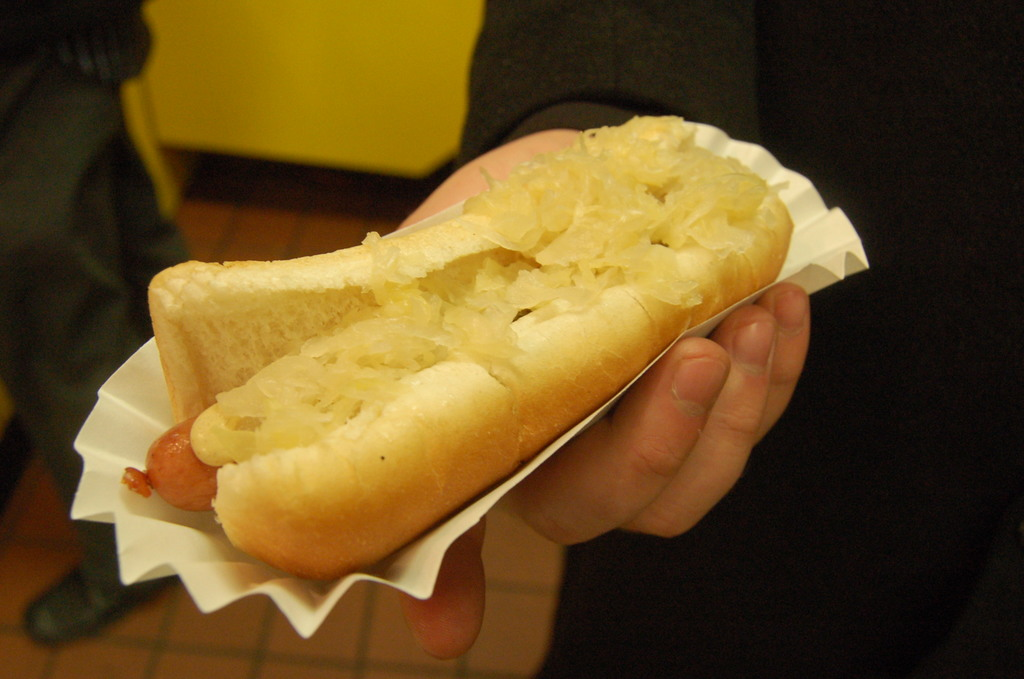hot_dog: (110, 111, 788, 588)
